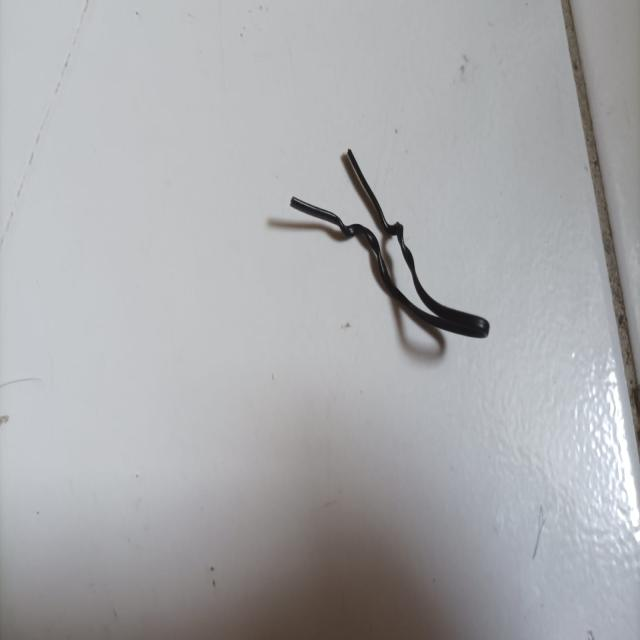Anorganik: (279, 143, 496, 374)
